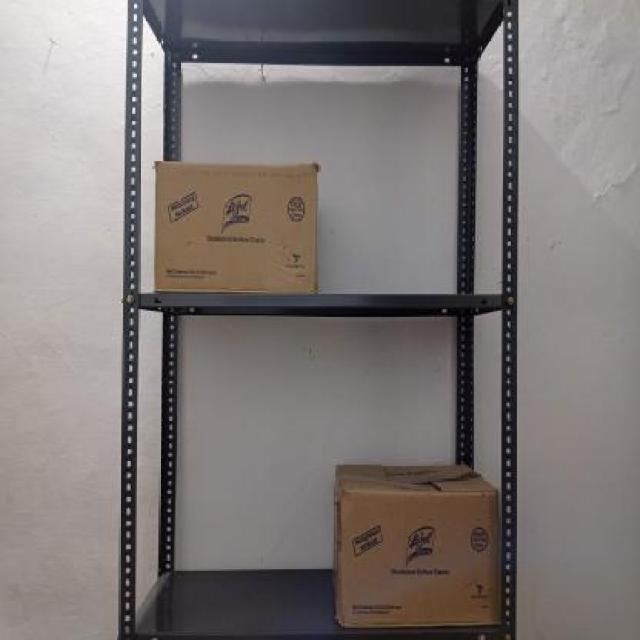box: (338, 488, 500, 628), (152, 161, 320, 294)
